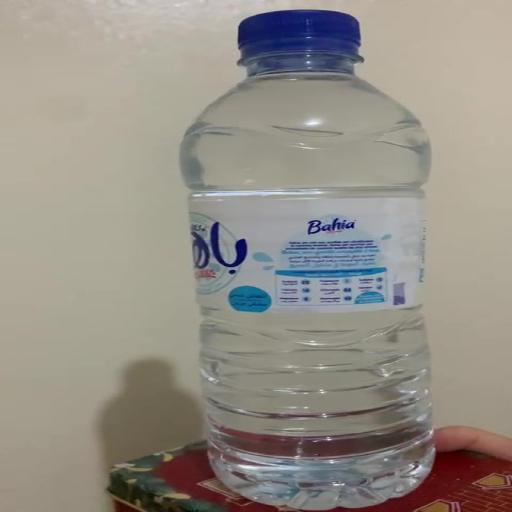bouteille conformite: (162, 12, 475, 502)
